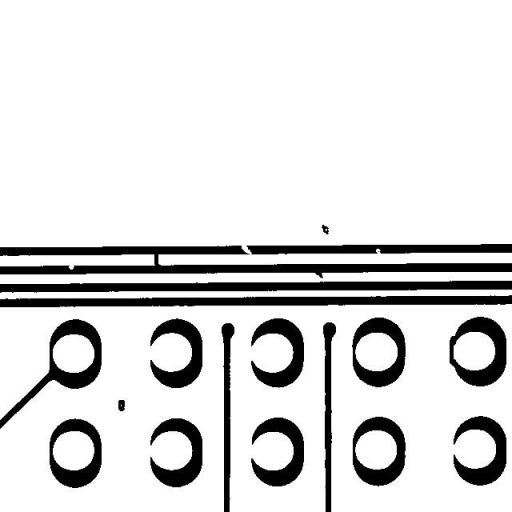copper: (110, 392, 132, 418), (314, 216, 336, 242)
mousebite: (368, 240, 388, 262), (60, 258, 82, 276)
open: (232, 234, 259, 262)
short: (442, 328, 464, 374), (144, 242, 167, 276)
spur: (306, 263, 330, 286)
